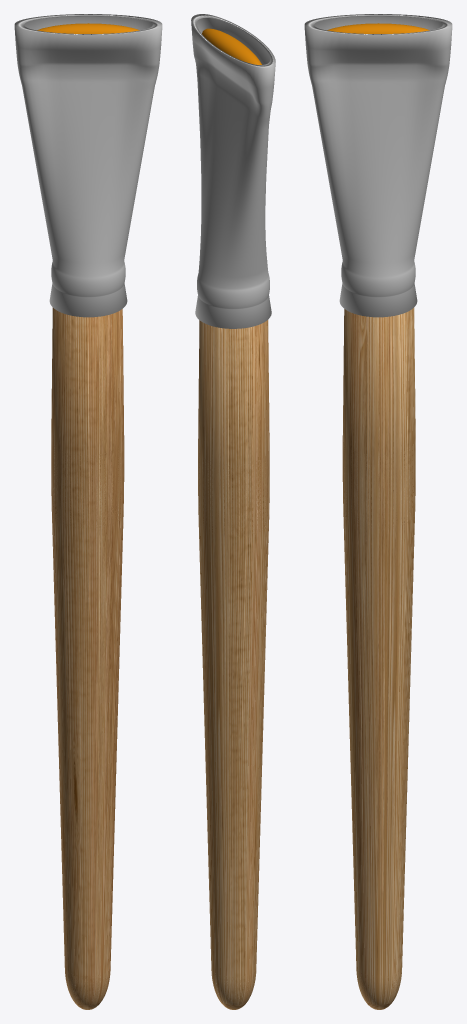
Rendered from brush.fbx.
3 renders of one model, left to right at view 1: azimuth 90°, elevation 25°; view 2: azimuth 210°, elevation 25°; view 3: azimuth 270°, elevation 25°, orthographic.
Visible parts, largest first — view 1: Cylinder, Cube; view 2: Cylinder, Cube; view 3: Cylinder, Cube.
Boxes of the visible parts, box(x1,y1,x2,y2) form: Cylinder: box(14, 14, 162, 1009); Cube: box(37, 23, 139, 33); Cylinder: box(191, 14, 275, 1009); Cube: box(202, 28, 261, 64); Cylinder: box(304, 14, 452, 1009); Cube: box(327, 23, 429, 33).
Bounding box in the file's own units: 6.59 × 92.22 × 12.57.
